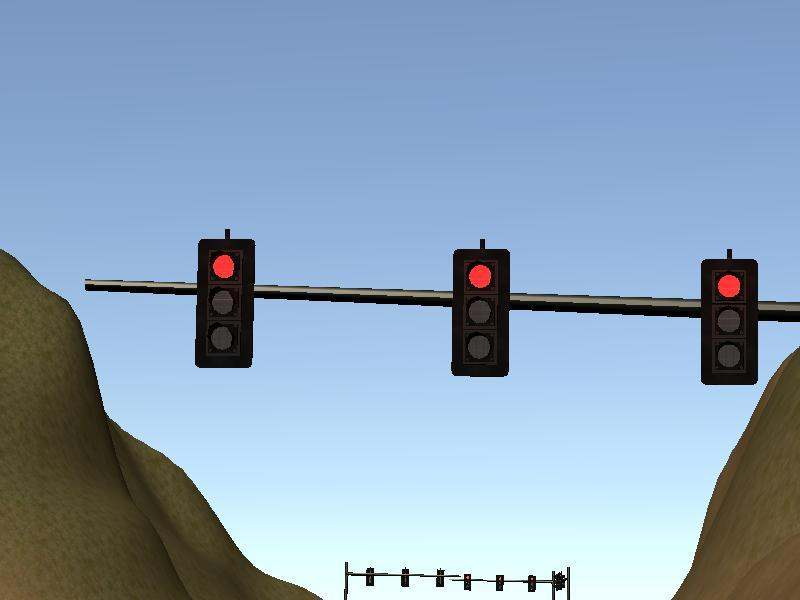Red: (455, 250, 510, 376), (704, 261, 759, 384), (200, 240, 251, 366)
